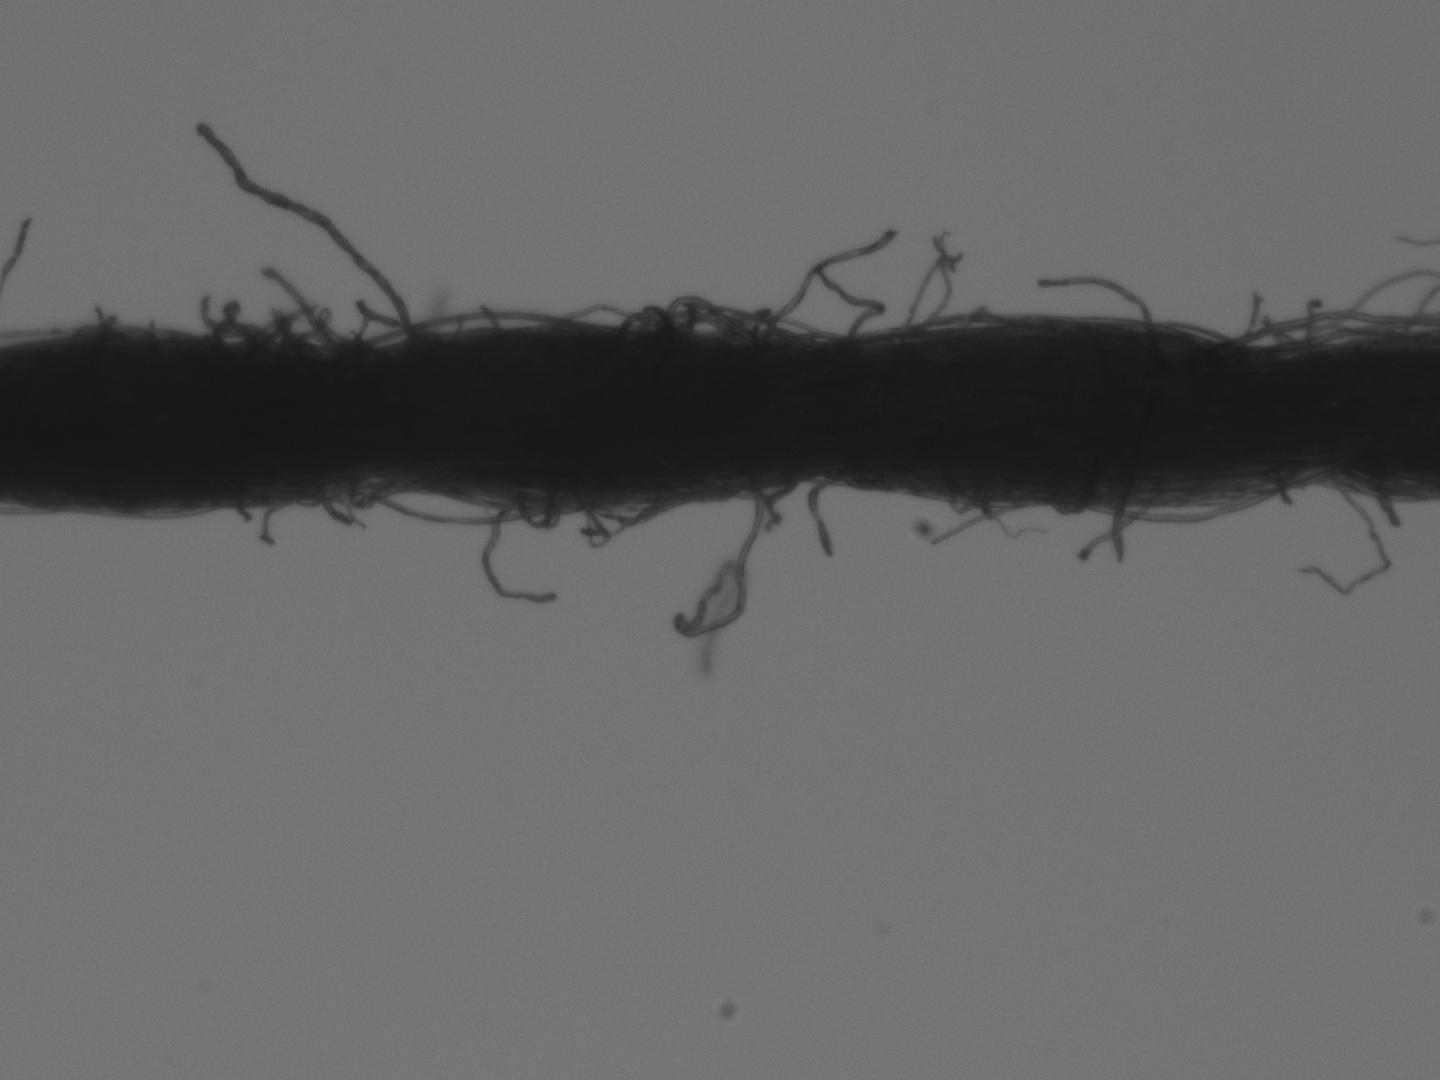loop_fiber: (356, 306, 595, 352), (582, 484, 732, 550), (1225, 309, 1431, 353), (1087, 484, 1281, 525), (364, 484, 543, 525), (327, 302, 424, 357), (655, 292, 759, 344), (717, 304, 797, 347), (551, 301, 655, 332), (507, 480, 558, 528), (337, 475, 404, 511), (201, 302, 257, 343), (617, 303, 684, 334), (316, 479, 356, 530)
protruding_fiber: (195, 123, 408, 345), (482, 487, 553, 602), (1040, 273, 1153, 329), (268, 265, 328, 349), (811, 478, 830, 559), (1111, 492, 1132, 564), (263, 505, 272, 546)
